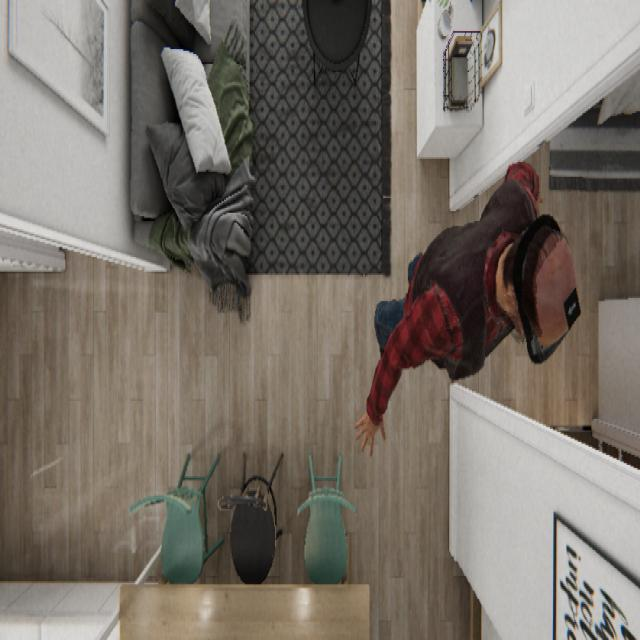Human: (354, 158, 581, 456)
UnityLogo: (562, 283, 581, 329)
